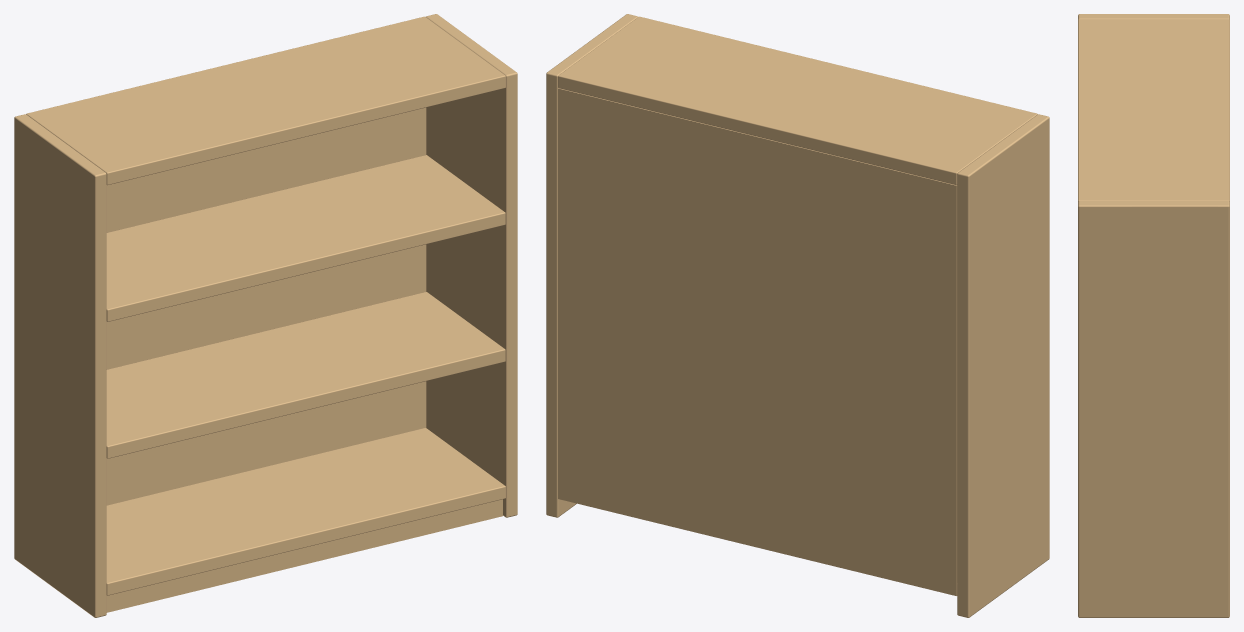
Rendered from shelf_low.glb.
3 renders of one model, left to right at view 1: azimuth 30°, elevation 25°; view 2: azimuth 150°, elevation 25°; view 3: azimuth 270°, elevation 25°, orthographic. The views are drawn at different scales.
Visible parts, largest first — view 1: shelf_low; view 2: shelf_low; view 3: shelf_low.
Part boxes in pixels (bbox=[...]): shelf_low: bbox=[14, 14, 517, 617]; shelf_low: bbox=[546, 14, 1049, 617]; shelf_low: bbox=[1078, 14, 1229, 617].
Bounding box in the file's own units: 0.9 × 0.9 × 0.3.
